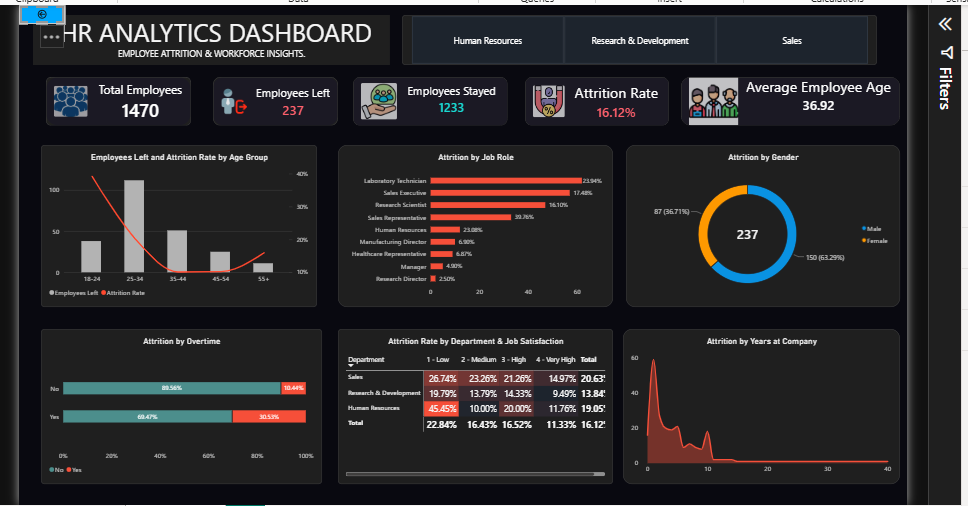

Layout of this report page (visuals, bound fields, positions):
{"tool":"powerbi","page":{"name":"Dashboard","canvas":[1920,1080],"ordinal":0},"visuals":[{"type":"cardVisual","fields":{"Data":["hr_cleaned_data.Total Employees"]},"box":[58.3,155.5,313.2,105.8],"z":0},{"type":"cardVisual","fields":{"Data":["hr_cleaned_data.Employees Left"]},"box":[419,155.5,270,105.8],"z":1000},{"type":"cardVisual","fields":{"Data":["hr_cleaned_data.Employees Stayed"]},"box":[721.4,155.5,334.8,105.8],"z":2000},{"type":"cardVisual","fields":{"Data":["hr_cleaned_data.Attrition Rate"]},"box":[1093,155.5,311,105.8],"z":3000},{"type":"cardVisual","fields":{"Data":["hr_cleaned_data.Average Employee Age"]},"box":[1378.1,715,475.2,112.3],"z":4000},{"type":"slicer","fields":{"Values":["hr_cleaned_data.department"]},"box":[827.3,21.6,1026,108],"z":5000},{"type":"donutChart","title":"Attrition by Gender","fields":{"Category":["hr_cleaned_data.gender"],"Y":["hr_cleaned_data.Employees Left"]},"box":[1311.1,302.4,591.8,349.9],"z":6000},{"type":"clusteredBarChart","title":"Attrition by Job Role","fields":{"Category":["hr_cleaned_data.jobrole"],"Y":["hr_cleaned_data.Employees Left"]},"box":[689,302.4,594,349.9],"z":7000},{"type":"lineChart","title":"Attrition by Years at Company","fields":{"Category":["hr_cleaned_data.yearsatcompany"],"Y":["hr_cleaned_data.Employees Left"]},"box":[1304.6,699.8,598.3,334.8],"z":8000},{"type":"textbox","box":[30.2,21.6,771.1,108],"z":9000},{"type":"lineClusteredColumnComboChart","fields":{"Category":["hr_cleaned_data.Age Group"],"Y":["hr_cleaned_data.Employees Left"],"Y2":["hr_cleaned_data.Attrition Rate"]},"box":[47.5,302.4,596.2,349.9],"z":10000},{"type":"hundredPercentStackedBarChart","title":"Attrition by Overtime","fields":{"Category":["hr_cleaned_data.overtime"],"Series":["hr_cleaned_data.attrition"],"Y":["CountNonNull(hr_cleaned_data.attrition)"]},"box":[47.5,699.8,607,334.8],"z":11000},{"type":"pivotTable","title":"Attrition Rate by Department & Job Satisfaction","fields":{"Columns":["hr_cleaned_data.Job Satisfaction Label"],"Rows":["hr_cleaned_data.department"],"Values":["hr_cleaned_data.Attrition Rate"]},"box":[689,699.8,594,334.8],"z":12000},{"type":"actionButton","box":[0,0,100,40],"z":13000},{"type":"cardVisual","fields":{"Data":["hr_cleaned_data.Average Employee Age"]},"box":[1429.9,155.5,473,105.8],"z":13001}]}

Visuals, with their boxes on the page's 1920x1080 design canvas (x1, y1, x2, y2). These are canvas units, not pixel positions in the 968x506 screenshot, which may show the page scaled, cropped or inside an application window:
cardVisual - hr_cleaned_data.Total Employees: 58 156 372 261
cardVisual - hr_cleaned_data.Employees Left: 419 156 689 261
cardVisual - hr_cleaned_data.Employees Stayed: 721 156 1056 261
cardVisual - hr_cleaned_data.Attrition Rate: 1093 156 1404 261
cardVisual - hr_cleaned_data.Average Employee Age: 1378 715 1853 827
slicer - hr_cleaned_data.department: 827 22 1853 130
"Attrition by Gender" donutChart: 1311 302 1903 652
"Attrition by Job Role" clusteredBarChart: 689 302 1283 652
"Attrition by Years at Company" lineChart: 1305 700 1903 1035
textbox: 30 22 801 130
lineClusteredColumnComboChart - hr_cleaned_data.Age Group x hr_cleaned_data.Employees Left: 48 302 644 652
"Attrition by Overtime" hundredPercentStackedBarChart: 48 700 654 1035
"Attrition Rate by Department & Job Satisfaction" pivotTable: 689 700 1283 1035
actionButton: 0 0 100 40
cardVisual - hr_cleaned_data.Average Employee Age: 1430 156 1903 261
